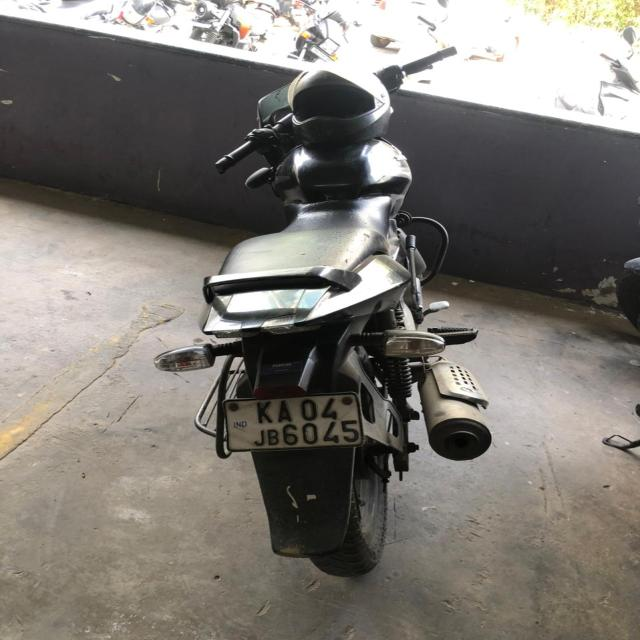number plate: (222, 391, 365, 451)
